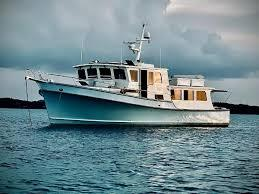Ship: (28, 31, 230, 127)
